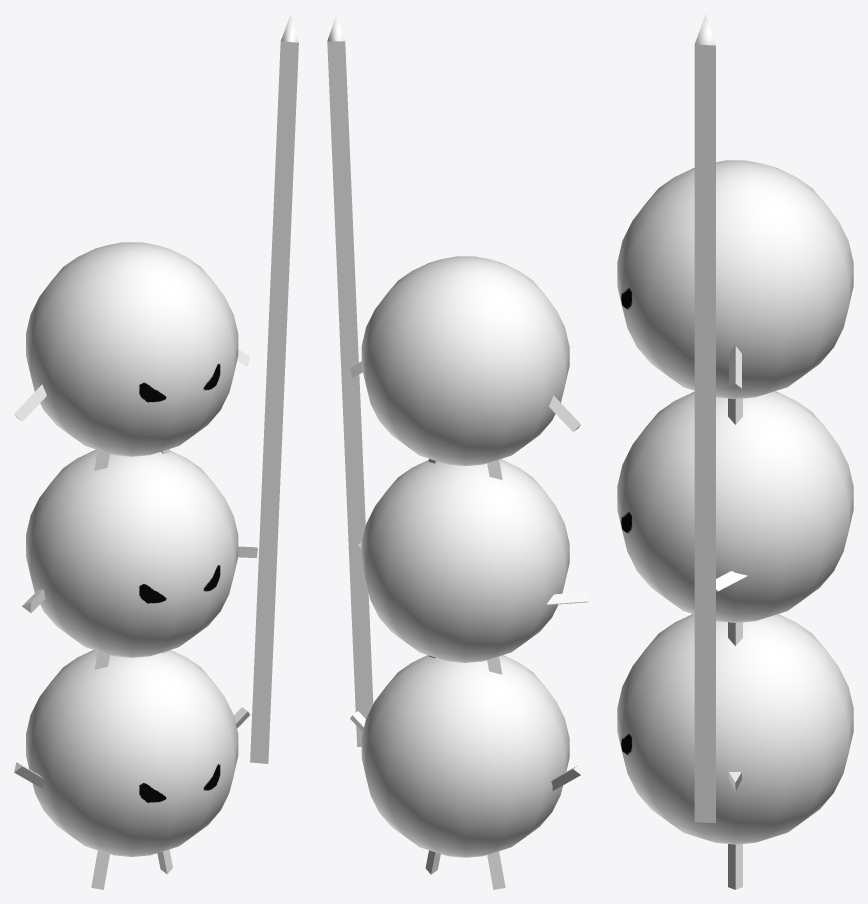
Rendered from enemy06.obj.
3 renders of one model, left to right at view 1: azimuth 30°, elevation 25°; view 2: azimuth 150°, elevation 25°; view 3: azimuth 270°, elevation 25°, orthographic. The views are drawn at different scales.
Visible parts, largest first — view 1: pasted__group1 group3 pasted__pSphere1, pasted__group1 group2 pasted__pSphere1, group1 pSphere1, pCylinder2, group1 pasted__pCylinder1, pasted__pCylinder1 pasted__group1 group3; view 2: pasted__group1 group3 pasted__pSphere1, pasted__group1 group2 pasted__pSphere1, group1 pSphere1, pCylinder2, group1 pasted__pCylinder1, pasted__pCylinder1 pasted__group1 group3, pCylinder1 group1; view 3: pasted__group1 group3 pasted__pSphere1, group1 pSphere1, pasted__group1 group2 pasted__pSphere1, pCylinder2, group1 pasted__pCylinder1, pasted__pCylinder1 pasted__group1 group3.
Boxes of the visible parts, x1=… form: pasted__group1 group3 pasted__pSphere1: x1=26, y1=242, x2=238, y2=456; pasted__group1 group2 pasted__pSphere1: x1=26, y1=449, x2=238, y2=657; group1 pSphere1: x1=26, y1=650, x2=238, y2=856; pCylinder2: x1=250, y1=14, x2=298, y2=763; group1 pasted__pCylinder1: x1=91, y1=849, x2=172, y2=889; pasted__pCylinder1 pasted__group1 group3: x1=14, y1=349, x2=249, y2=421; pasted__group1 group3 pasted__pSphere1: x1=361, y1=256, x2=569, y2=465; pasted__group1 group2 pasted__pSphere1: x1=361, y1=459, x2=569, y2=662; group1 pSphere1: x1=361, y1=655, x2=569, y2=857; pCylinder2: x1=327, y1=14, x2=373, y2=746; group1 pasted__pCylinder1: x1=425, y1=850, x2=505, y2=889; pasted__pCylinder1 pasted__group1 group3: x1=350, y1=361, x2=580, y2=431; pCylinder1 group1: x1=350, y1=711, x2=580, y2=790; pasted__group1 group3 pasted__pSphere1: x1=617, y1=160, x2=853, y2=398; group1 pSphere1: x1=617, y1=614, x2=853, y2=844; pasted__group1 group2 pasted__pSphere1: x1=617, y1=391, x2=853, y2=622; pCylinder2: x1=694, y1=14, x2=715, y2=823; group1 pasted__pCylinder1: x1=728, y1=844, x2=742, y2=889; pasted__pCylinder1 pasted__group1 group3: x1=729, y1=345, x2=741, y2=388.
Bounding box in the file's own units: 2.04 × 6.1 × 1.4.
Materials: 4 (3 with a texture image).
